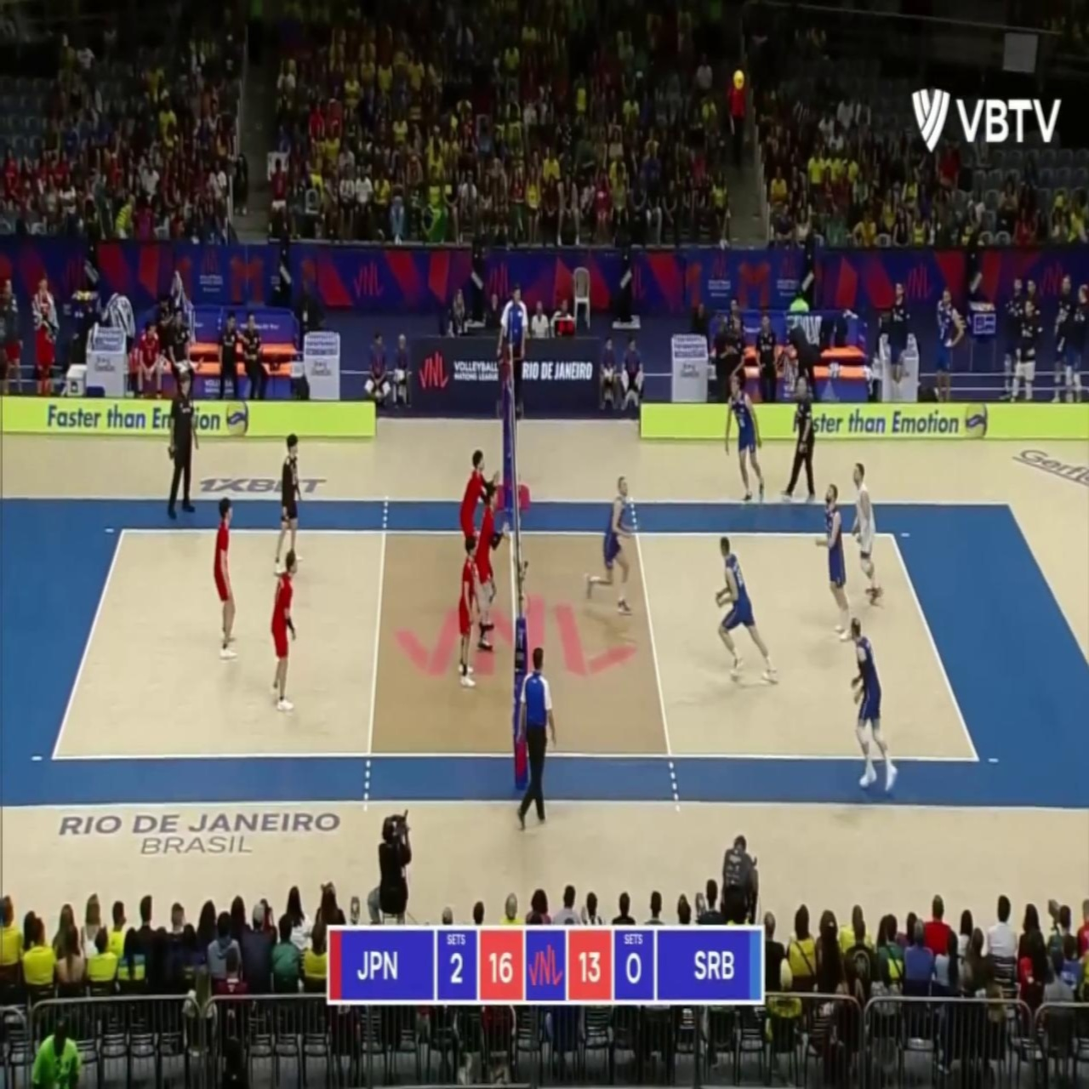ball: (733, 70, 744, 90)
